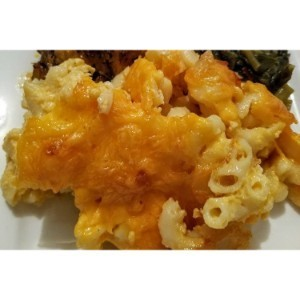cheese_brain food: (95, 116, 267, 230)
